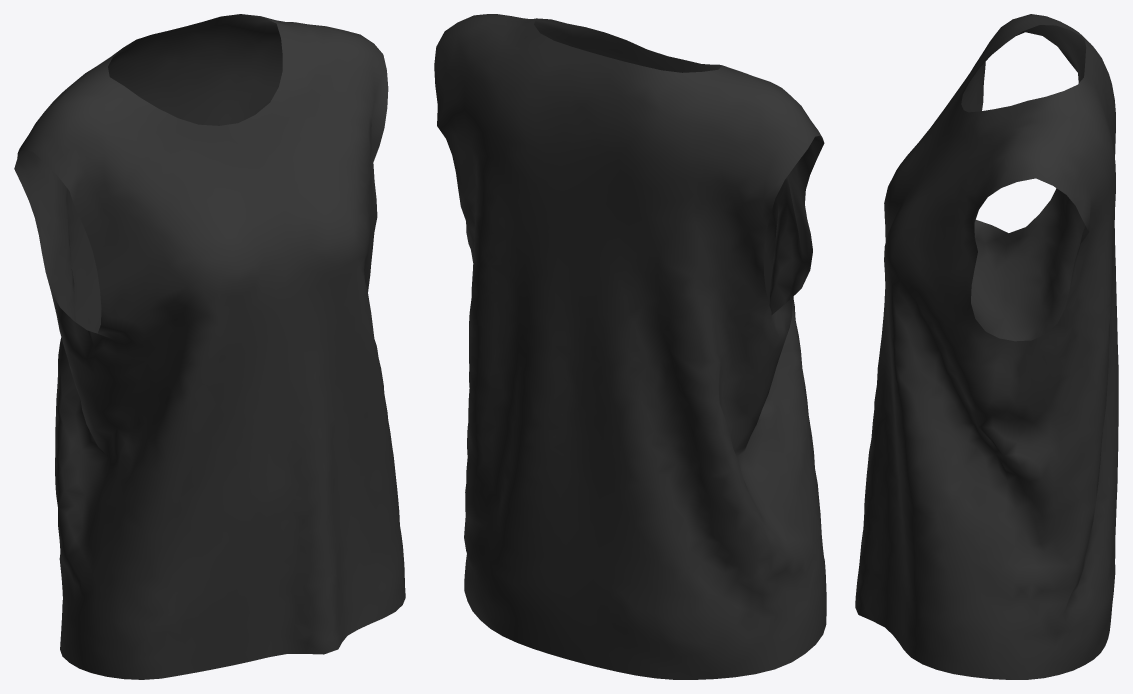
Rendered from maika1.gltf.
3 views of the same model, side by side, from view 1: azimuth 30°, elevation 25°; view 2: azimuth 150°, elevation 25°; view 3: azimuth 270°, elevation 25° (orthographic). The views are drawn at different scales.
Parts seen in each view (by area): view 1: maika1; view 2: maika1; view 3: maika1.
Boxes of the visible parts, <box> form: maika1: <box>14,14,405,679</box>; maika1: <box>434,14,826,679</box>; maika1: <box>855,14,1118,679</box>.
Bounding box in the file's own units: 2.12 × 3.33 × 1.42.
Materials: 1 (1 with a texture image).
